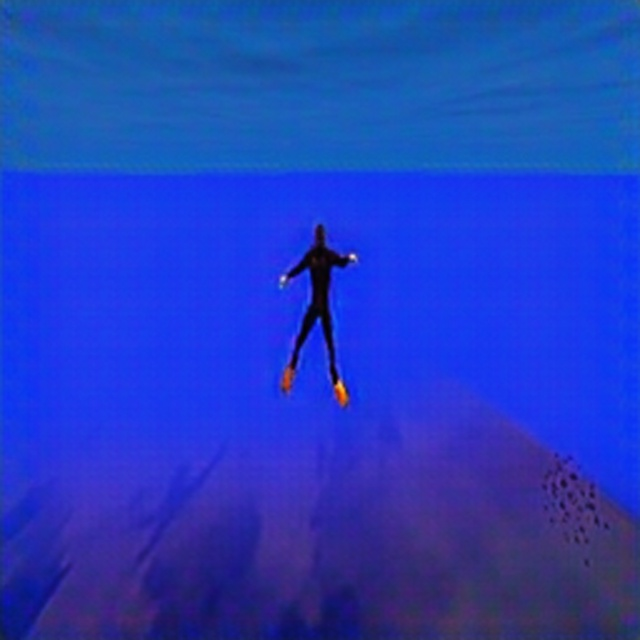diver: (276, 220, 360, 407)
